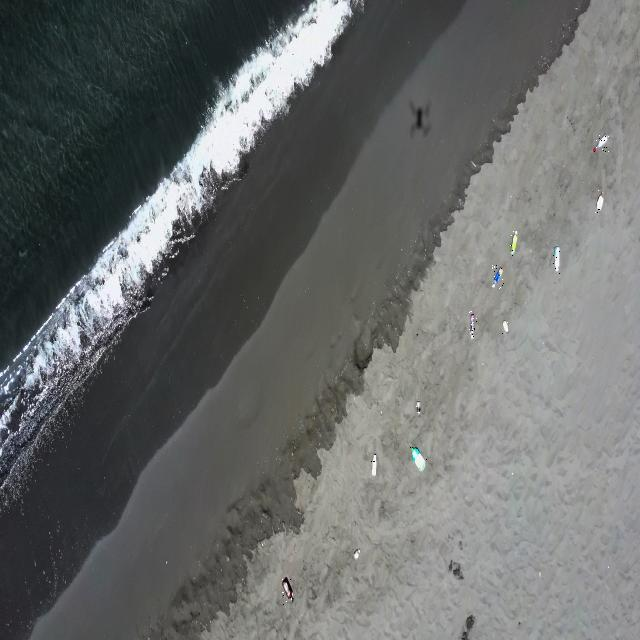Garbage: (460, 615, 473, 639), (412, 446, 424, 471), (448, 560, 462, 579), (281, 576, 292, 600), (492, 264, 503, 287), (593, 134, 607, 151), (468, 311, 475, 337), (595, 193, 603, 212), (553, 247, 559, 272), (464, 616, 473, 630), (511, 231, 516, 255), (371, 452, 375, 475), (352, 548, 359, 559), (415, 400, 420, 413), (503, 320, 507, 332)
